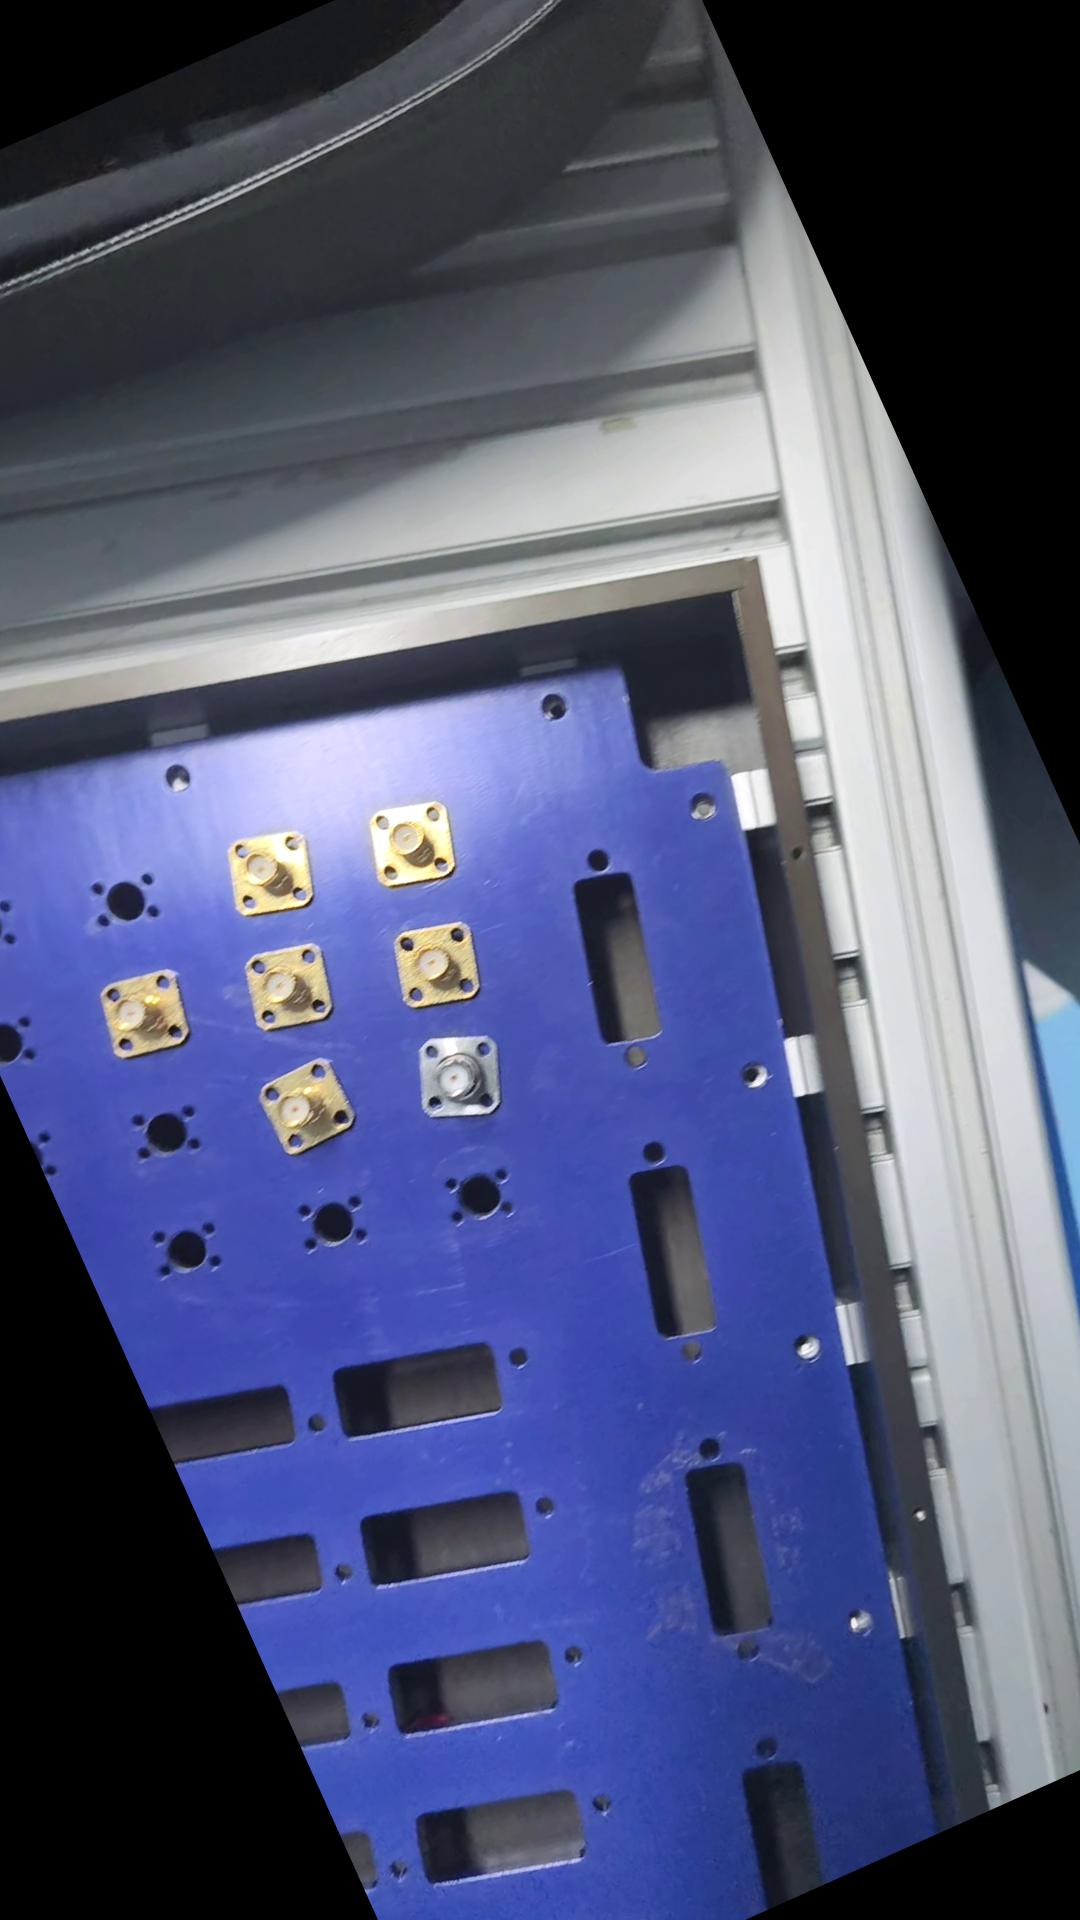SMA: (343, 785, 475, 909), (243, 1044, 367, 1171), (397, 1018, 521, 1139), (223, 928, 345, 1048), (375, 909, 498, 1026), (208, 815, 326, 934), (84, 957, 200, 1071)
